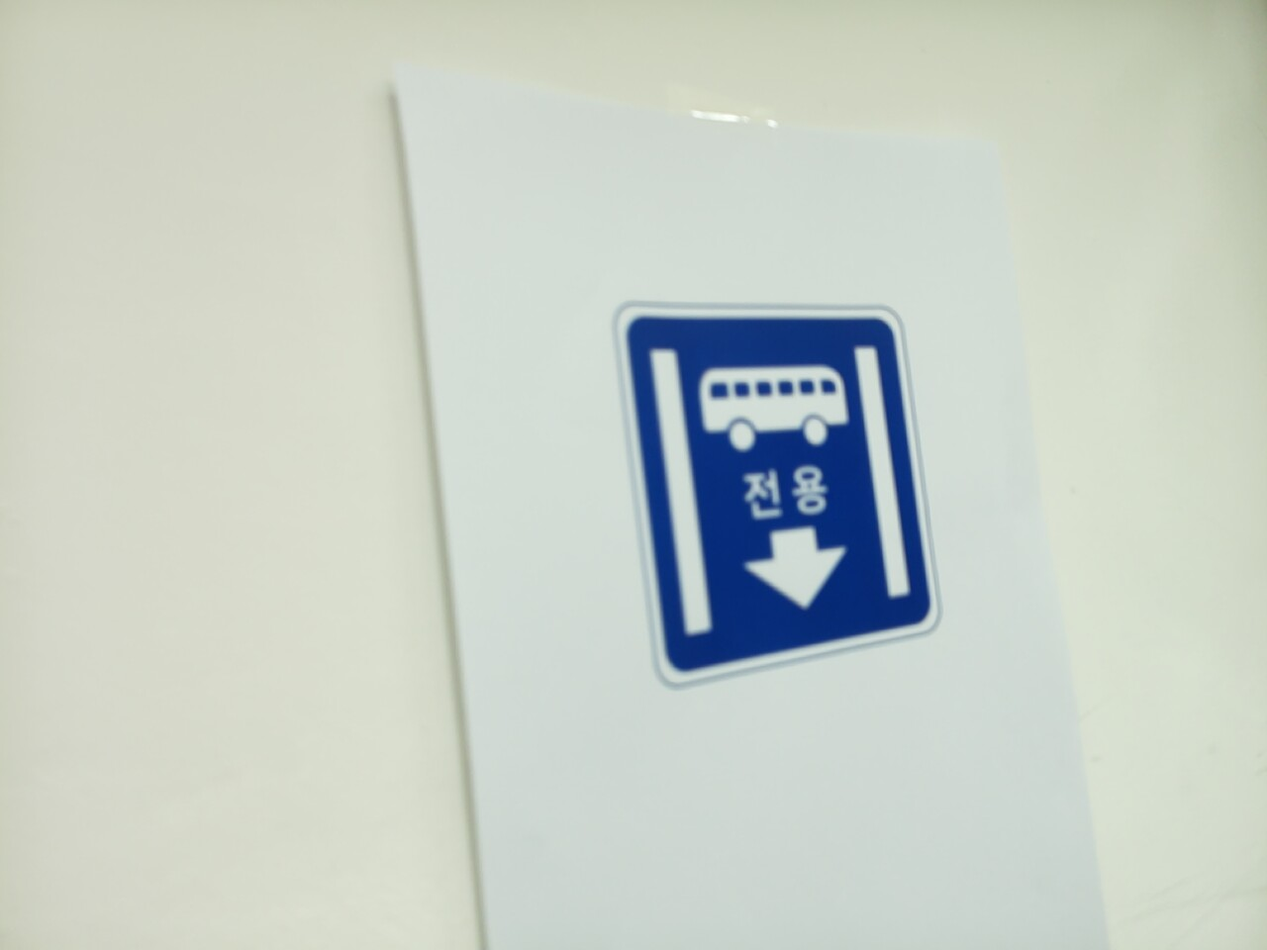bus_only_lane: (617, 305, 940, 683)
